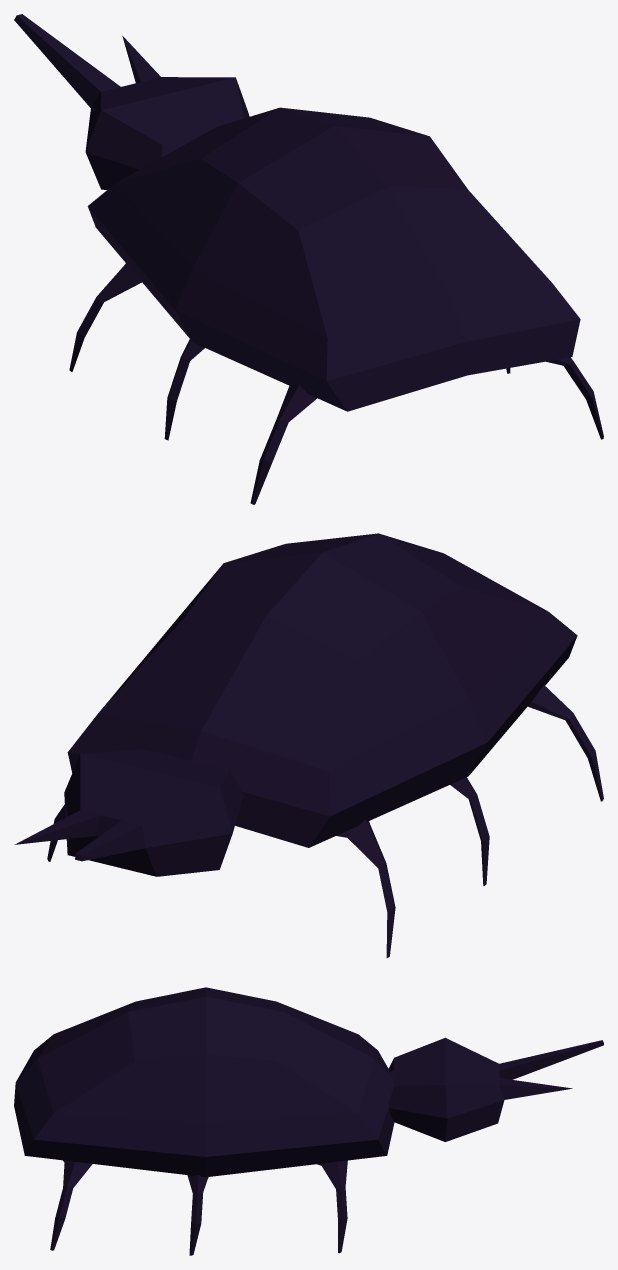
Rendered from Beetle_placeholder.glb.
3 views of the same model, one above another, from view 1: azimuth 30°, elevation 25°; view 2: azimuth 150°, elevation 25°; view 3: azimuth 270°, elevation 25° (orthographic). The views are drawn at different scales.
Visible parts, largest first — view 1: Cube; view 2: Cube; view 3: Cube.
Boxes of the visible parts, x1,y1,x2,y2 form: Cube: (14,14,603,504); Cube: (14,533,603,957); Cube: (14,987,603,1255).
Bounding box in the file's own units: 4.14 × 3.16 × 8.38.
